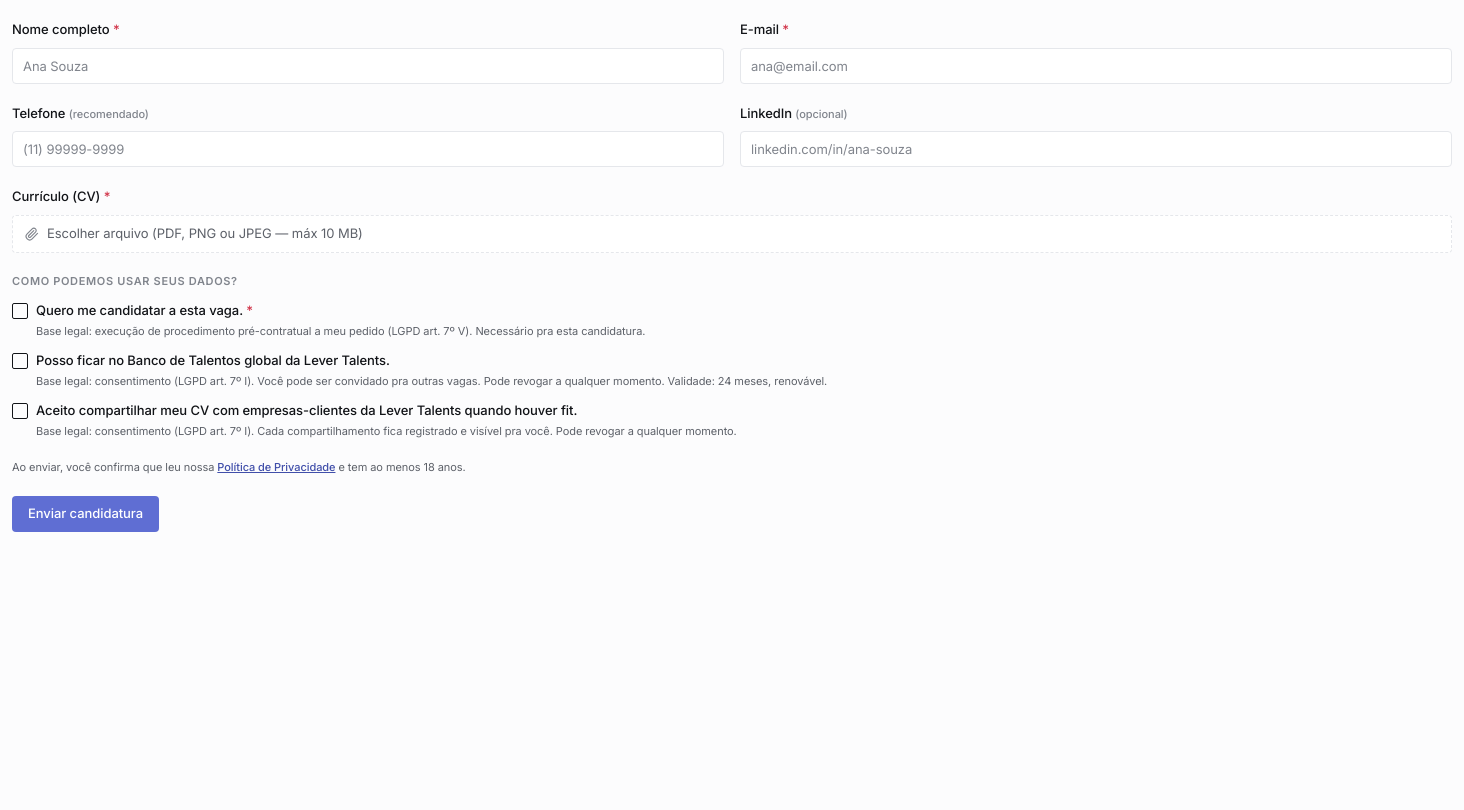
Test: PublicApplicationForm — TAL-04 opt-in NÃO pré-marcado › submit bloqueia se consent_aplicacao_vaga não marcado (mostra erro Zod)
Click the button "Enviar candidatura".
click(86, 514)  # box [12,496,159,532]
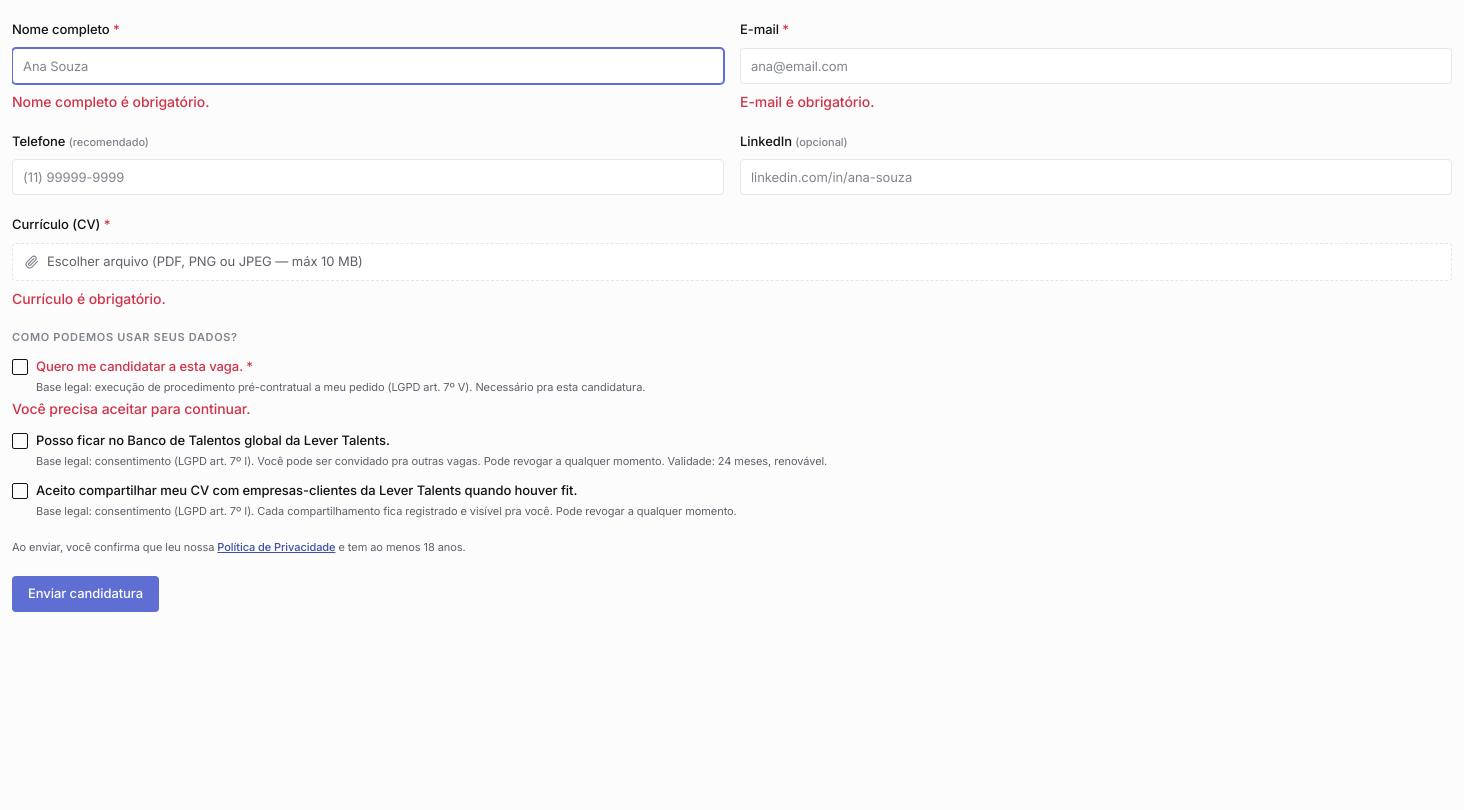
expect the text "Você precisa aceitar para continuar." is shown: met, box [12,400,250,417]
